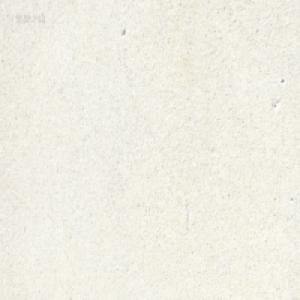Wrench: (177, 0, 183, 5)
